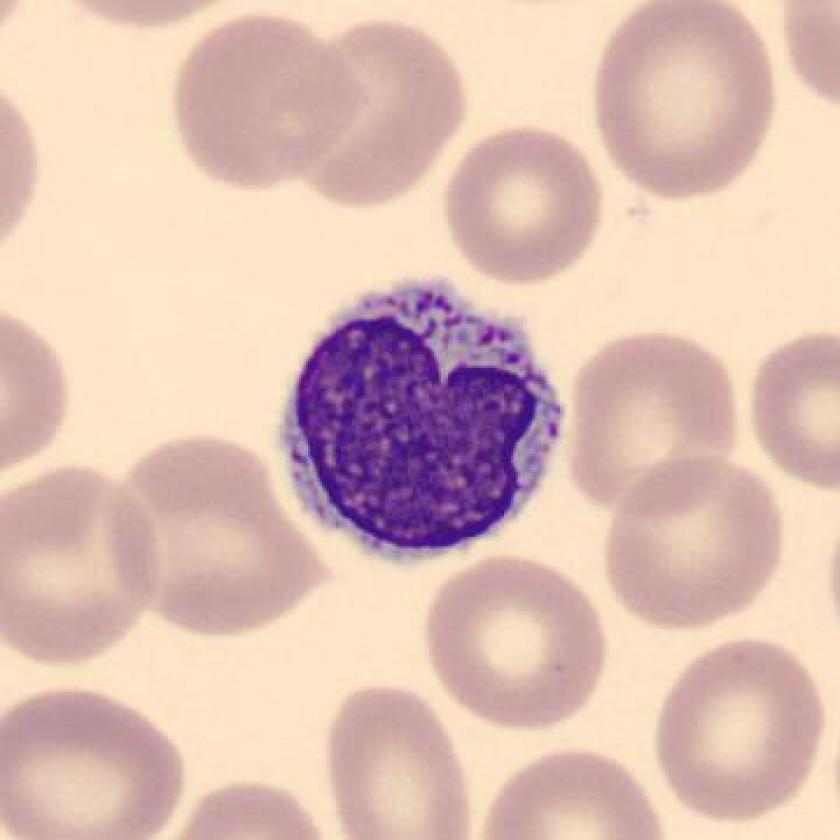lymphocyte: (256, 263, 592, 580)
